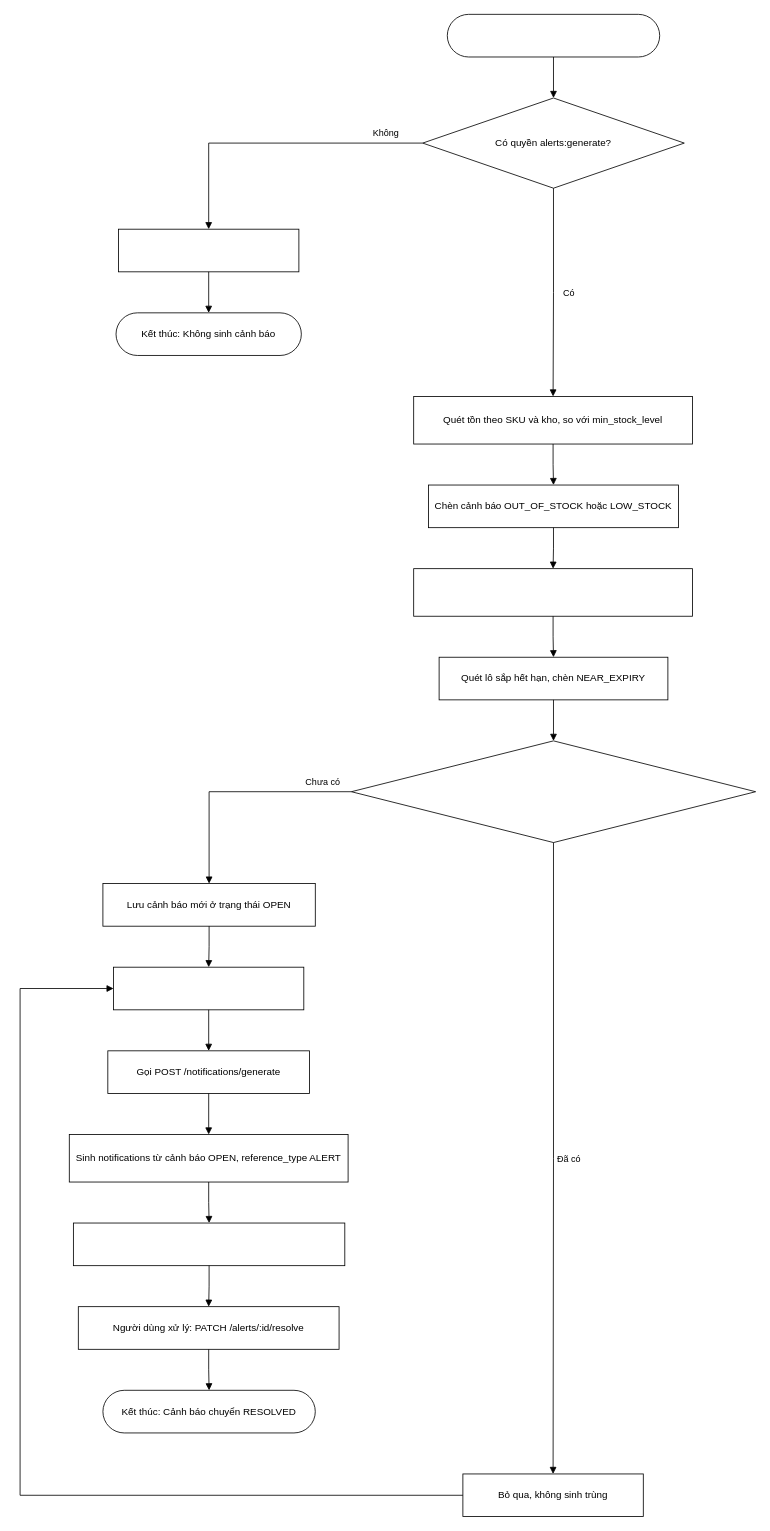
This 770x1531 diagram has some shape labels left out. Here are the shapes that lost their labels. From the top down, the centre of each, then its label:
the point at 553,35: Bắt đầu: Gọi POST /alerts/generate
the point at 208,250: Trả 403 FORBIDDEN
the point at 552,592: Quét tồn vượt max_stock_level, chèn OVER_MAX_STOCK
the point at 553,791: Đã có cảnh báo OPEN cùng loại cho SKU và kho đó?
the point at 208,988: Trả createdCount cho người gọi
the point at 209,1244: Người dùng đọc: PATCH /notifications/:id/read
